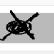not correct: (0, 9, 40, 43)
